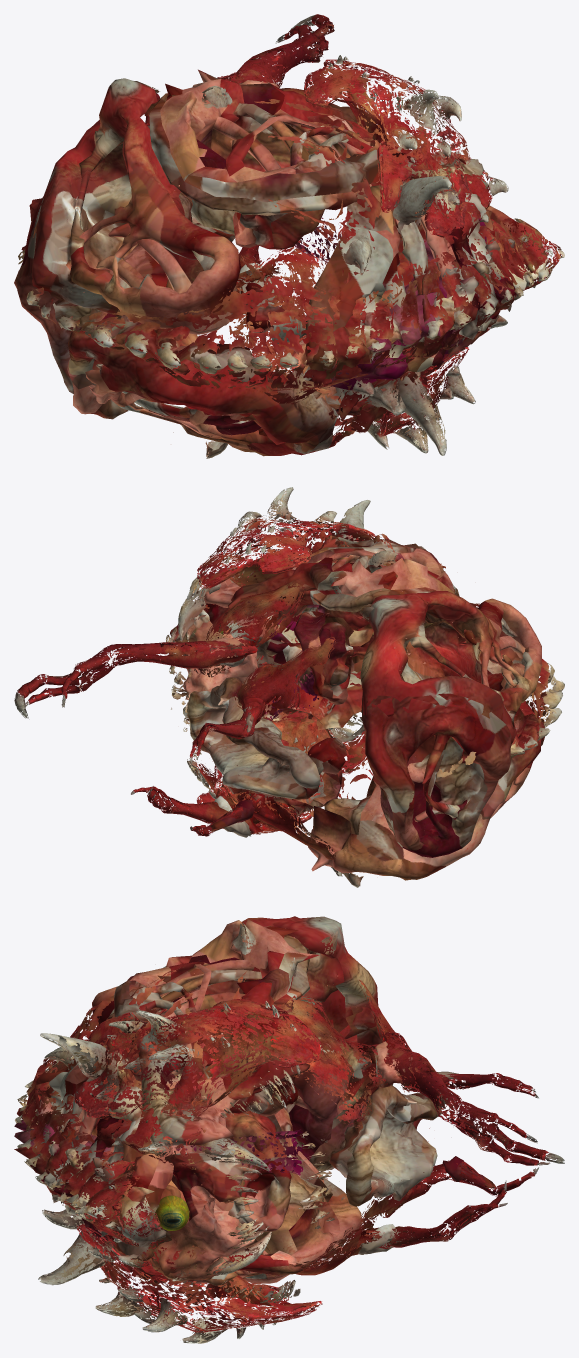
File: cacodemon_LOD0.obj
3 renders of one model, top to bottom at view 1: azimuth 30°, elevation 25°; view 2: azimuth 150°, elevation 25°; view 3: azimuth 270°, elevation 25°, orthographic. The views are drawn at different scales.
Parts seen in each view (by area): view 1: cacodemon_wounds, cacodemon_body, cacodemon_armor, cacodemon_arms; view 2: cacodemon_wounds, cacodemon_arms, cacodemon_armor, cacodemon_body; view 3: cacodemon_wounds, cacodemon_armor, cacodemon_body, cacodemon_arms, cacodemon_eye.
Boxes of the visible parts, left/top/right/bottom form: cacodemon_wounds: left=14, top=69, right=547, bottom=456; cacodemon_body: left=18, top=78, right=564, bottom=458; cacodemon_armor: left=304, top=55, right=549, bottom=453; cacodemon_arms: left=144, top=14, right=334, bottom=374; cacodemon_wounds: left=170, top=537, right=544, bottom=880; cacodemon_arms: left=14, top=579, right=335, bottom=859; cacodemon_armor: left=196, top=487, right=375, bottom=836; cacodemon_body: left=166, top=500, right=564, bottom=887; cacodemon_wounds: left=14, top=916, right=496, bottom=1285; cacodemon_armor: left=74, top=998, right=323, bottom=1343; cacodemon_body: left=15, top=923, right=435, bottom=1304; cacodemon_arms: left=266, top=979, right=564, bottom=1277; cacodemon_eye: left=154, top=1195, right=189, bottom=1230.
Size of the model in its own units: 333 by 262 by 371.
Materials: 5 (5 with a texture image).
